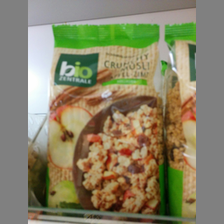cereal: (45, 24, 169, 224)
